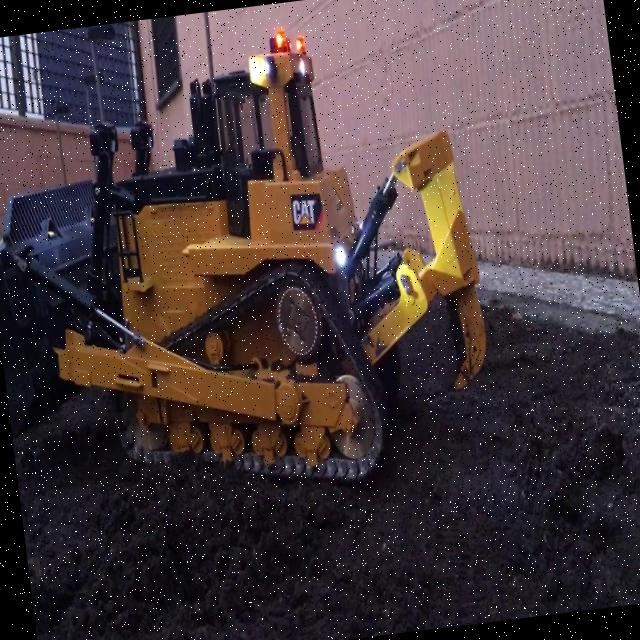Bulldozer: (0, 0, 529, 571)
